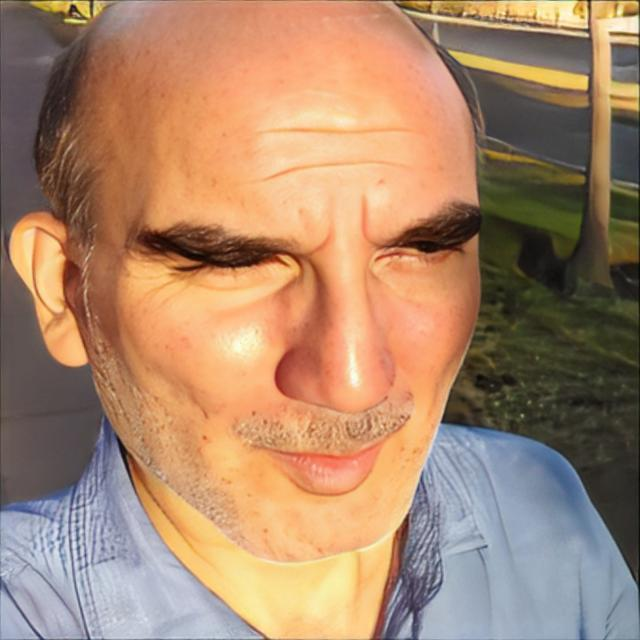anger: (80, 25, 487, 568)
